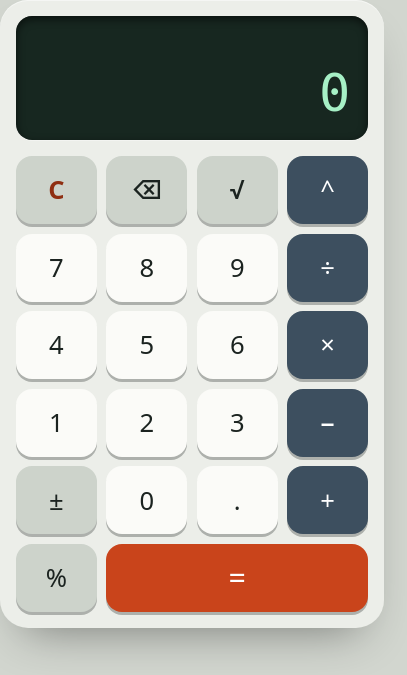
Test: Calculator (mouse and touch) › takes a square root of the displayed number
Click the button "9" at {"x": 237, "y": 268}, box [197,234,278,302]
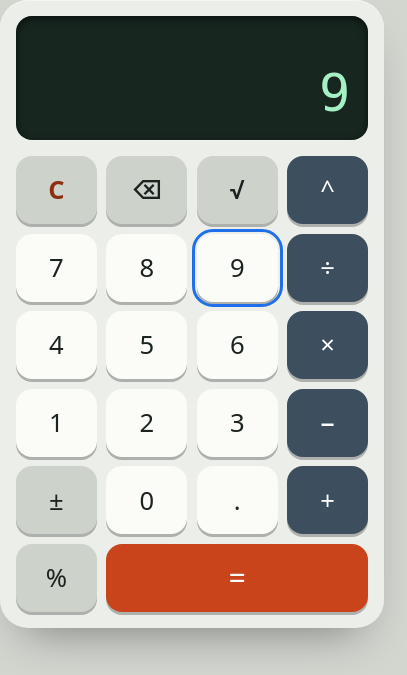
Click the button named "Square root" at {"x": 237, "y": 190}, box [197,156,278,224]
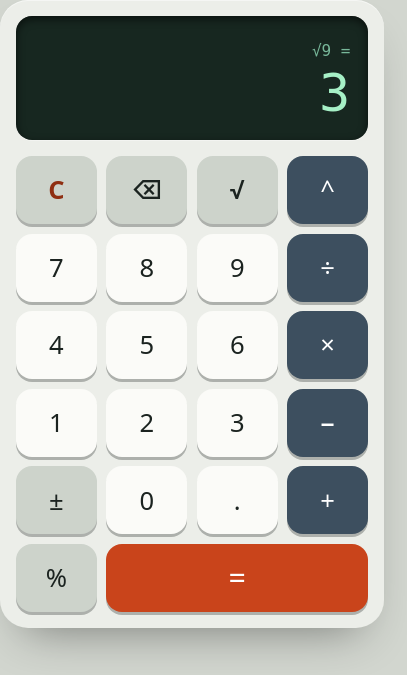
Expected: the message reads "√9 = 3", [16,16,368,140]
